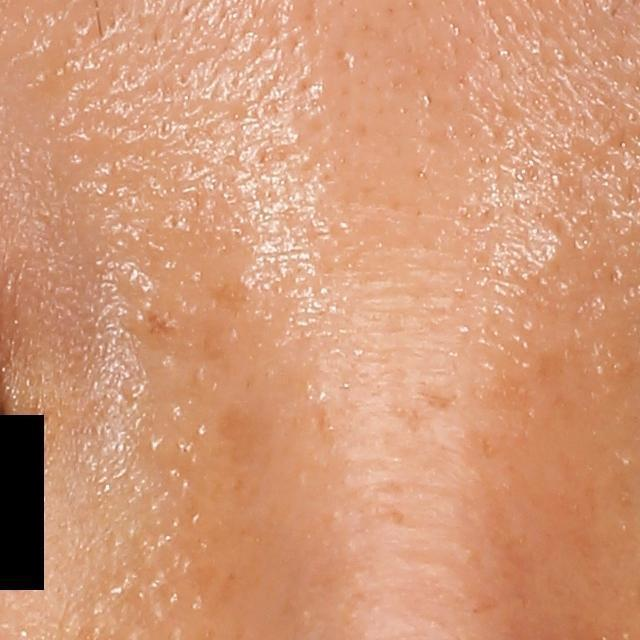melasma: (219, 404, 255, 470), (530, 344, 578, 392), (206, 281, 250, 315), (417, 383, 460, 413), (146, 309, 179, 340)
